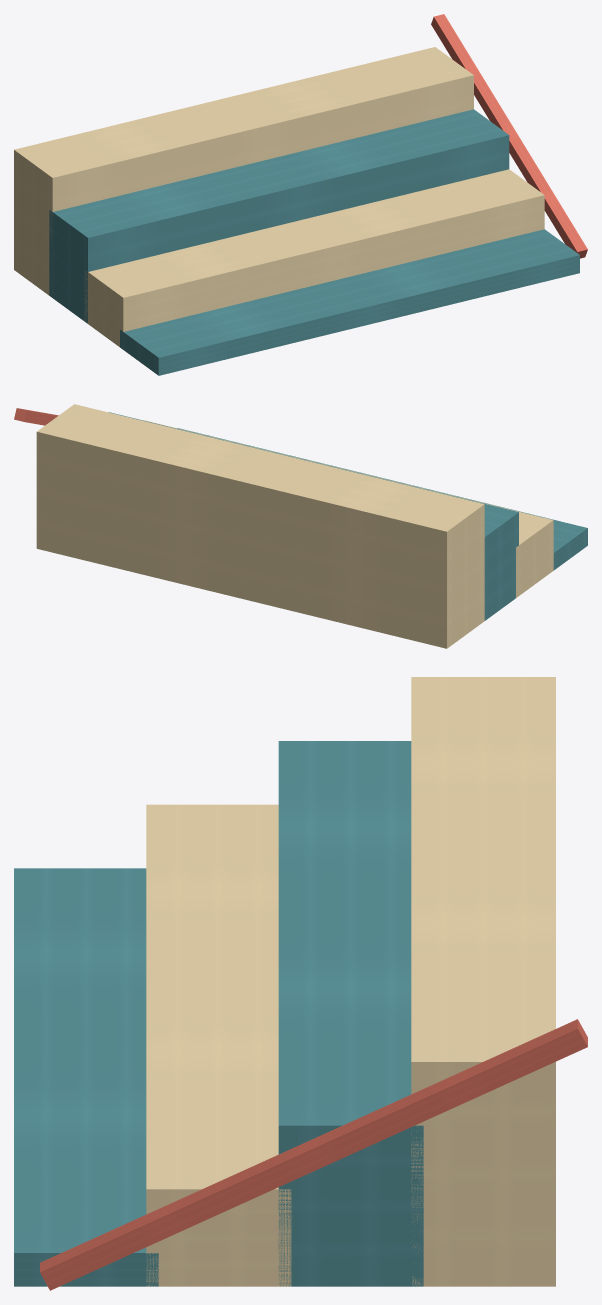
Rendered from atlas100-s071-a10.lod1.glb.
3 renders of one model, top to bottom at view 1: azimuth 30°, elevation 25°; view 2: azimuth 150°, elevation 25°; view 3: azimuth 270°, elevation 25°, orthographic. The views are drawn at different scales.
Parts seen in each view (by area): view 1: atlas100-s071-a10:part-003, atlas100-s071-a10:part-002, atlas100-s071-a10:part-001, atlas100-s071-a10:part-000, atlas100-s071-a10:part-005; view 2: atlas100-s071-a10:part-003, atlas100-s071-a10:part-002, atlas100-s071-a10:part-001, atlas100-s071-a10:part-000, atlas100-s071-a10:part-005; view 3: atlas100-s071-a10:part-003, atlas100-s071-a10:part-002, atlas100-s071-a10:part-001, atlas100-s071-a10:part-000, atlas100-s071-a10:part-005.
Boxes of the visible parts, box(x1,y1,x2,y2) form: atlas100-s071-a10:part-003: box(14, 47, 473, 295); atlas100-s071-a10:part-002: box(49, 109, 509, 323); atlas100-s071-a10:part-001: box(84, 169, 544, 346); atlas100-s071-a10:part-000: box(120, 229, 579, 375); atlas100-s071-a10:part-005: box(431, 14, 587, 258); atlas100-s071-a10:part-003: box(36, 404, 484, 648); atlas100-s071-a10:part-002: box(108, 412, 518, 620); atlas100-s071-a10:part-001: box(143, 420, 553, 597); atlas100-s071-a10:part-000: box(178, 428, 587, 570); atlas100-s071-a10:part-005: box(14, 408, 58, 425); atlas100-s071-a10:part-003: box(411, 677, 555, 1286); atlas100-s071-a10:part-002: box(278, 741, 423, 1286); atlas100-s071-a10:part-001: box(146, 804, 291, 1286); atlas100-s071-a10:part-000: box(14, 868, 158, 1286); atlas100-s071-a10:part-005: box(40, 1019, 587, 1290).
Bounding box in the file's own units: 2.28 × 0.7246 × 1.39.
3 materials, 3 textured.
